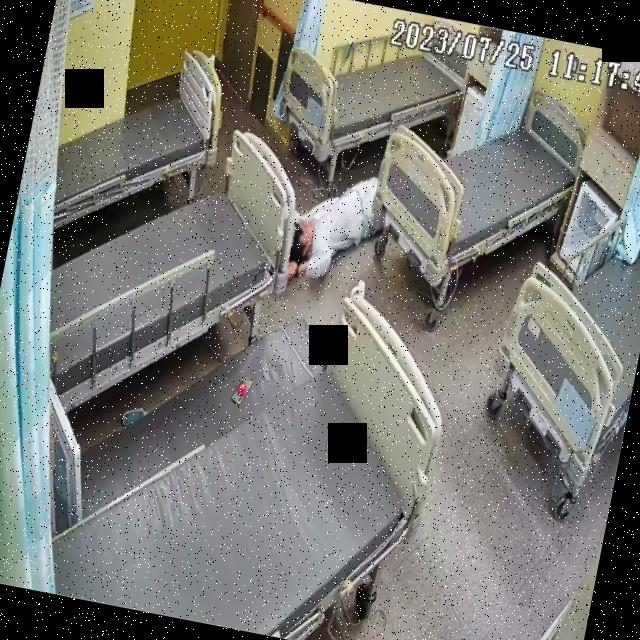bed: (41, 256, 454, 640), (23, 104, 308, 437), (479, 180, 640, 493), (362, 71, 590, 287), (42, 28, 235, 252), (276, 8, 473, 183)
fall: (282, 163, 381, 290)
patient: (284, 157, 382, 287)
